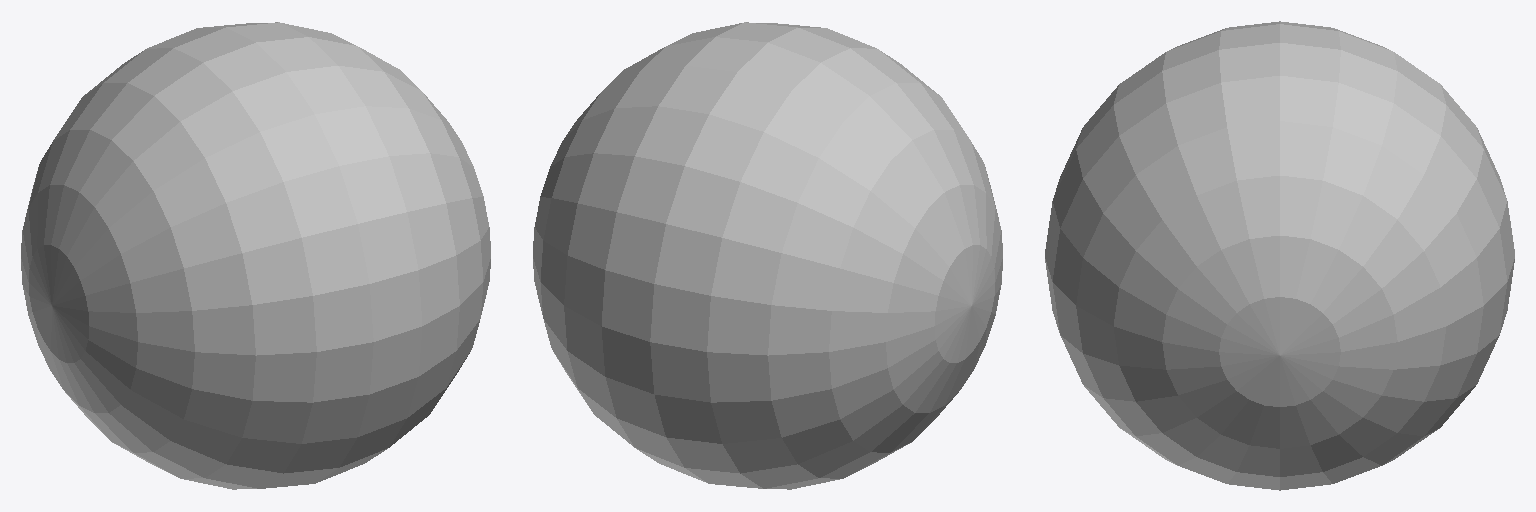
The picture shows the model from 3 angles: view 1: azimuth 30°, elevation 25°; view 2: azimuth 150°, elevation 25°; view 3: azimuth 270°, elevation 25°; orthographic projection.
Visible parts, largest first — view 1: boulder.obj; view 2: boulder.obj; view 3: boulder.obj.
Part boxes in pixels (bbox=[...]): boulder.obj: bbox=[21, 22, 490, 489]; boulder.obj: bbox=[533, 22, 1002, 489]; boulder.obj: bbox=[1045, 21, 1514, 490].
Size of the model in its own units: 0.5 by 0.5 by 0.5.